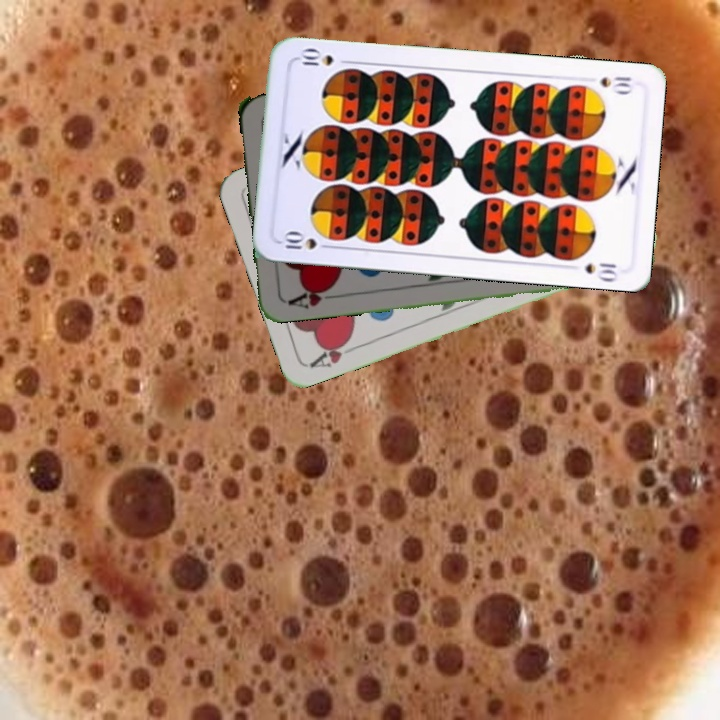HA: (305, 334, 362, 371), (284, 281, 342, 311)
S10: (277, 228, 336, 252), (596, 72, 635, 96)
